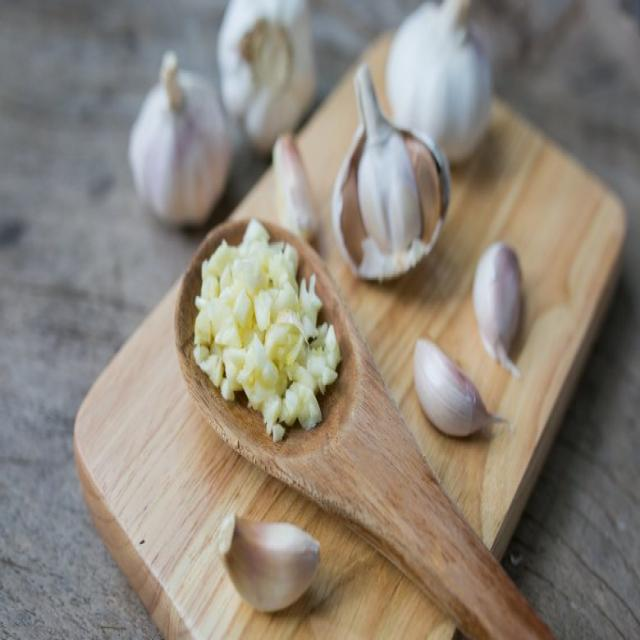garlic: (336, 123, 452, 280), (127, 73, 229, 228), (391, 1, 493, 140), (217, 0, 313, 135), (212, 506, 324, 616), (414, 332, 489, 454), (474, 236, 522, 372)
